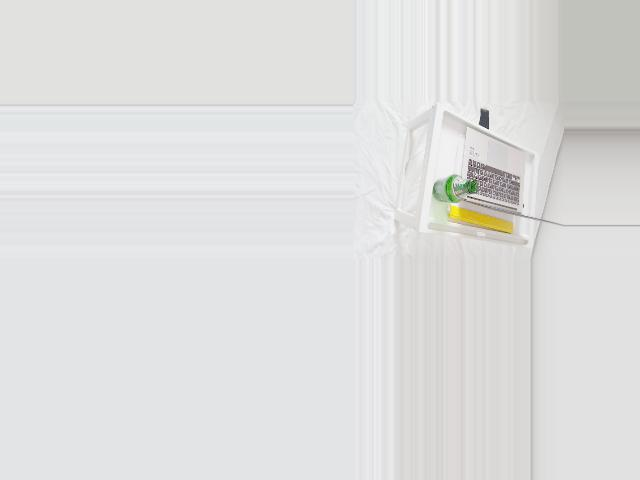beer: (432, 175, 477, 203)
